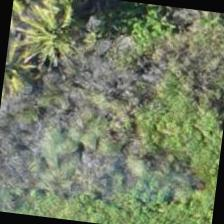Kelapa_Sawit: (5, 0, 103, 77)
